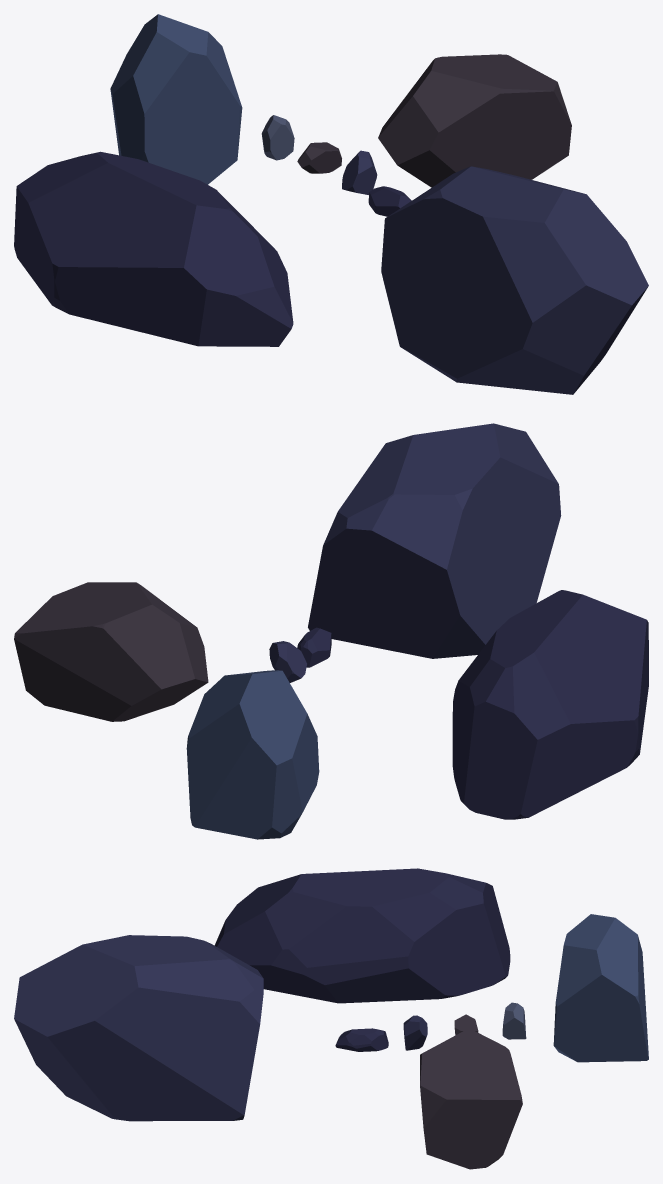
File: pedrinhas.fbx
The picture shows the model from 3 angles, top to bottom: view 1: azimuth 30°, elevation 25°; view 2: azimuth 150°, elevation 25°; view 3: azimuth 270°, elevation 25°; orthographic projection. The views are drawn at different scales.
Visible parts, largest first — view 1: Sphere.007, Sphere.004, Sphere.006, Sphere.005, Sphere.001, Sphere.002, Sphere, Sphere.003; view 2: Sphere.007, Sphere.004, Sphere.006, Sphere.005, Sphere.002, Sphere.003; view 3: Sphere.007, Sphere.004, Sphere.005, Sphere.006, Sphere.003, Sphere.001, Sphere.002.
Part boxes in pixels (left/top/right/bottom): Sphere.007: left=381, top=166, right=648, bottom=394; Sphere.004: left=14, top=151, right=293, bottom=346; Sphere.006: left=378, top=54, right=571, bottom=187; Sphere.005: left=110, top=14, right=242, bottom=184; Sphere.001: left=261, top=115, right=294, bottom=160; Sphere.002: left=342, top=150, right=377, bottom=194; Sphere: left=297, top=142, right=341, bottom=173; Sphere.003: left=368, top=186, right=411, bottom=216; Sphere.007: left=308, top=423, right=561, bottom=658; Sphere.004: left=452, top=590, right=648, bottom=819; Sphere.006: left=14, top=582, right=208, bottom=721; Sphere.005: left=186, top=670, right=319, bottom=839; Sphere.002: left=269, top=641, right=306, bottom=682; Sphere.003: left=297, top=627, right=331, bottom=667; Sphere.007: left=14, top=935, right=263, bottom=1121; Sphere.004: left=214, top=868, right=510, bottom=1003; Sphere.005: left=553, top=914, right=648, bottom=1062; Sphere.006: left=420, top=1028, right=522, bottom=1169; Sphere.003: left=335, top=1028, right=388, bottom=1051; Sphere.001: left=502, top=1002, right=526, bottom=1039; Sphere.002: left=403, top=1015, right=427, bottom=1050.
Size of the model in its own units: 3608 by 1071 by 4285.
